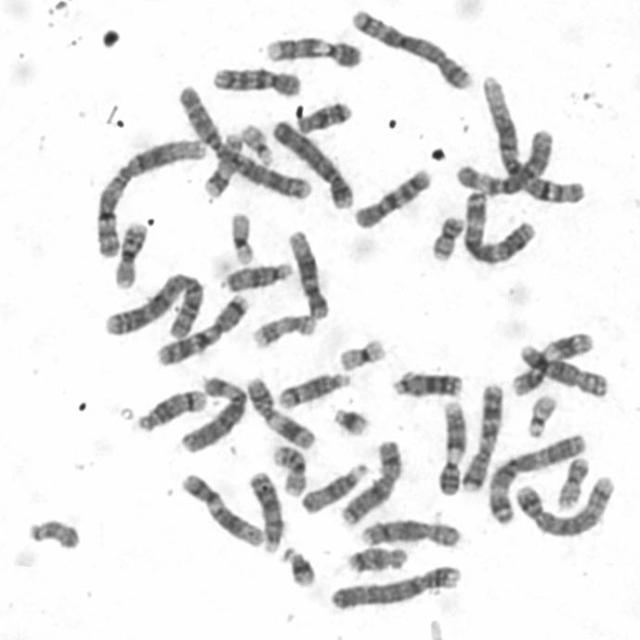A1: (475, 67, 588, 207), (88, 132, 210, 260)
A2: (171, 78, 314, 201), (98, 264, 208, 340)
A3: (481, 426, 589, 526), (457, 183, 539, 266)
B4: (266, 111, 356, 210), (323, 558, 464, 612)
B5: (344, 1, 476, 92), (510, 468, 618, 540)
C10: (346, 160, 434, 230), (206, 59, 303, 98)
C11: (238, 369, 318, 451), (506, 326, 596, 398)
C12: (175, 466, 266, 549), (282, 223, 332, 321)
C6: (450, 121, 556, 196), (174, 369, 249, 454)
C7: (150, 287, 252, 367), (456, 376, 505, 493)
C8: (513, 337, 609, 400), (355, 512, 463, 550)
C9: (258, 29, 364, 70), (431, 392, 469, 497)
D13: (243, 464, 286, 554), (386, 363, 466, 399)
D14: (130, 382, 208, 433), (271, 364, 353, 411)
D15: (294, 455, 371, 515), (217, 255, 294, 293)
E16: (108, 214, 150, 289), (266, 437, 308, 498)
E17: (197, 127, 245, 198), (245, 306, 319, 350)
E18: (290, 94, 354, 135), (340, 540, 410, 574)
F19: (333, 331, 388, 373), (224, 205, 257, 266)
F20: (550, 449, 592, 511), (424, 208, 466, 262)
G21: (275, 538, 319, 589), (326, 399, 373, 437)
G22: (234, 116, 277, 166), (521, 388, 559, 439)
X: (333, 432, 405, 528)
Y: (21, 511, 83, 552)
